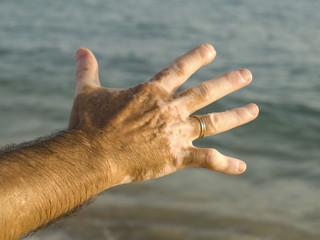vitiligo: (75, 51, 247, 169)
